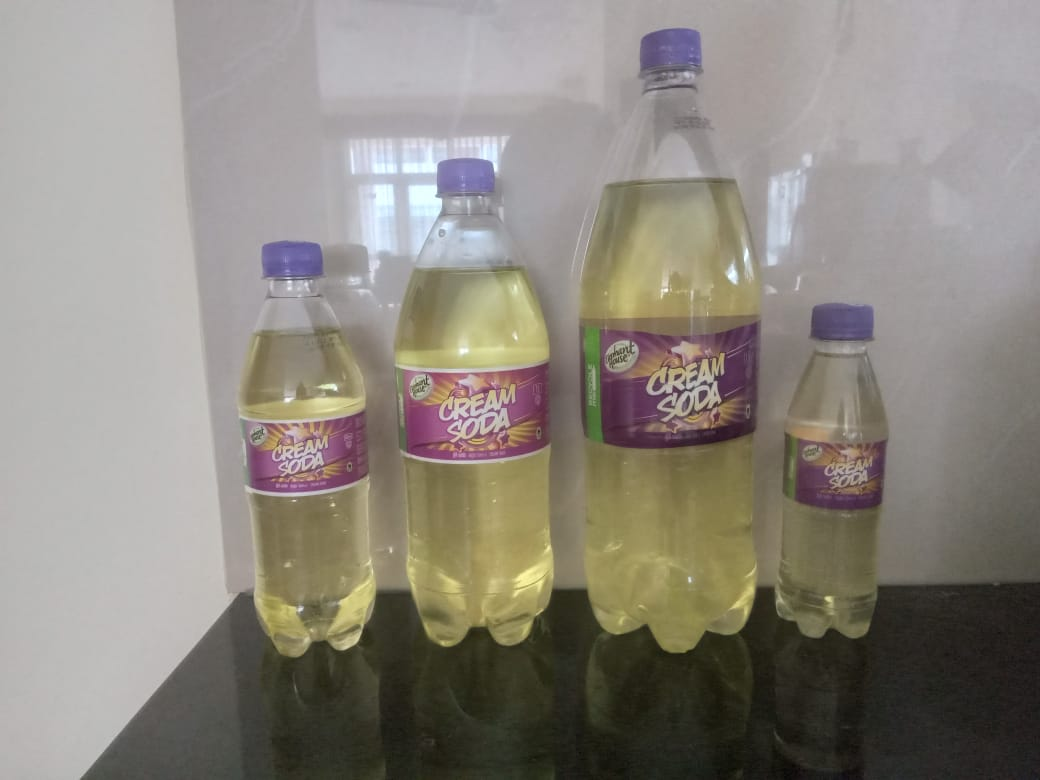L: (568, 26, 764, 661)
M: (387, 153, 562, 654)
S: (227, 233, 382, 661)
Xs: (772, 299, 898, 645)
